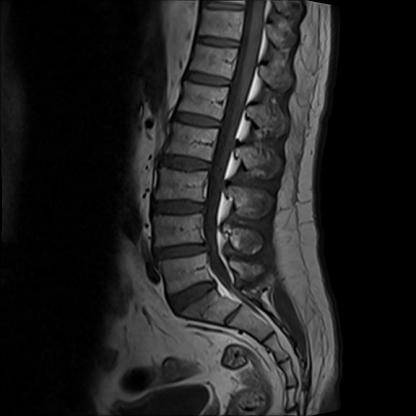Degenerative Disc Diseaserotation: (163, 279, 226, 316), (147, 239, 214, 264)
Disc Bulgerotation: (146, 240, 215, 264)
Disc Relaxationrotation: (147, 194, 212, 222)
